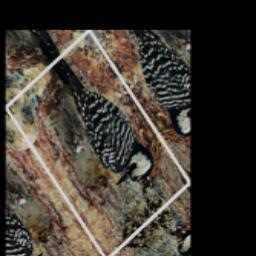Woodpecker: (25, 39, 165, 219)
